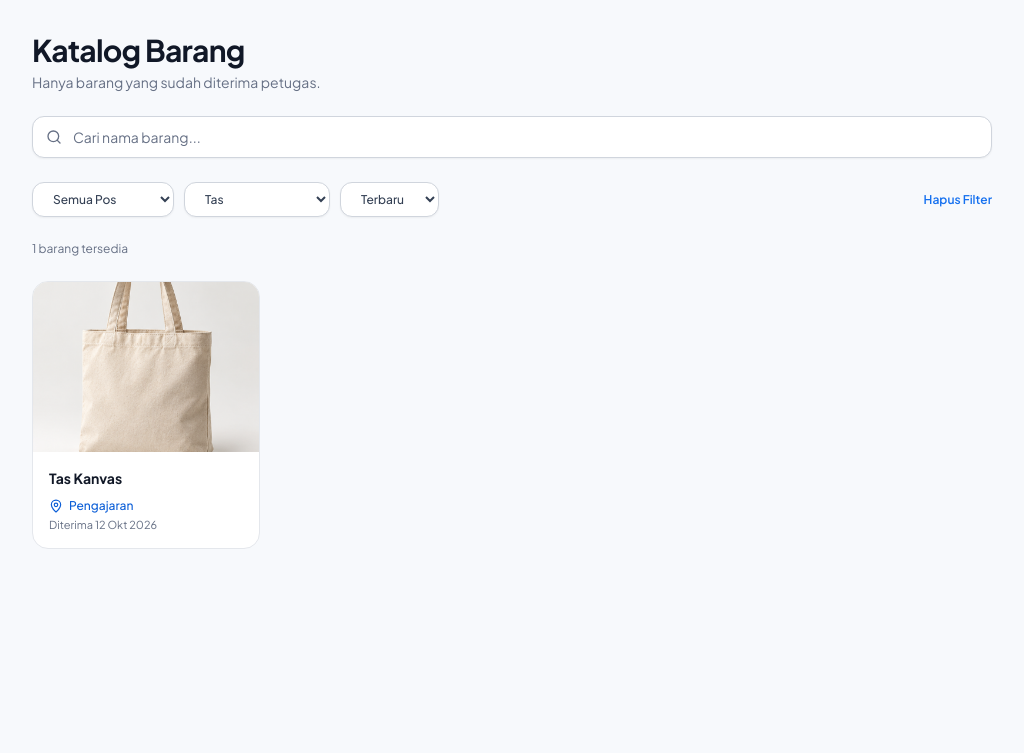
Test: Public & Guest Flows (F/C.1 - F/C.2.0) › F/C.2.0: Shared Catalog Page & Privacy Isolation › resets category filter and search params when Hapus Filter is clicked
Expected: the text "1 barang tersedia" is shown, [32, 241, 128, 256]
Expected: the dropdown named "Filter Kategori" shows "Tas", [184, 182, 330, 217]
Click Hapus Filter button
Step 1. Click the button "Hapus Filter" → {"x": 958, "y": 200}, box [924, 192, 992, 208]
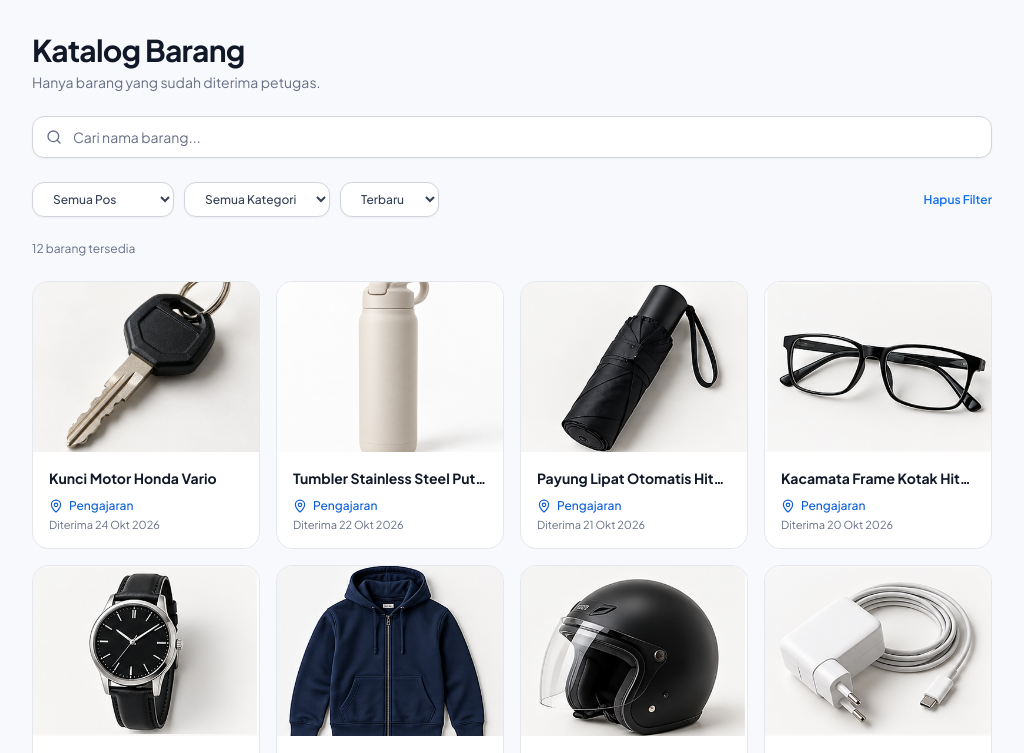
Result: the dropdown named "Filter Kategori" shows "Semua Kategori" at [184, 182, 330, 217]
